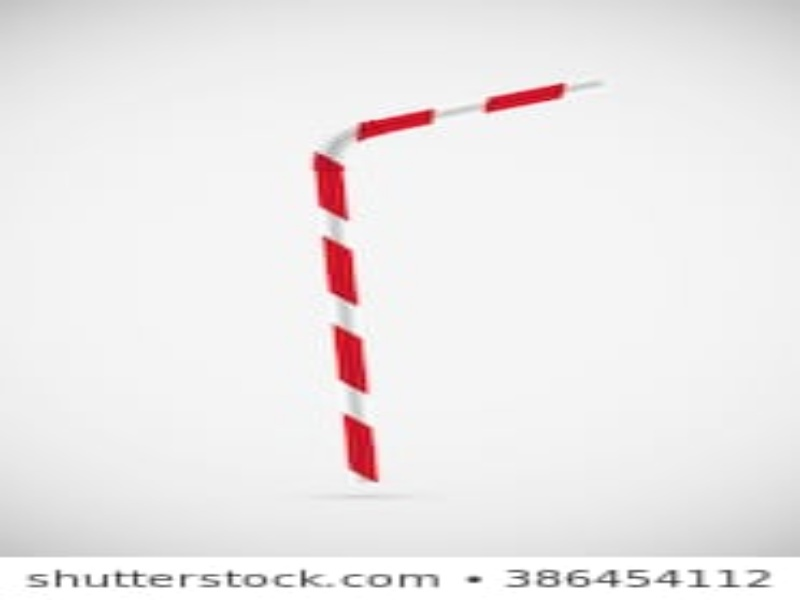straw: (313, 67, 615, 492)
